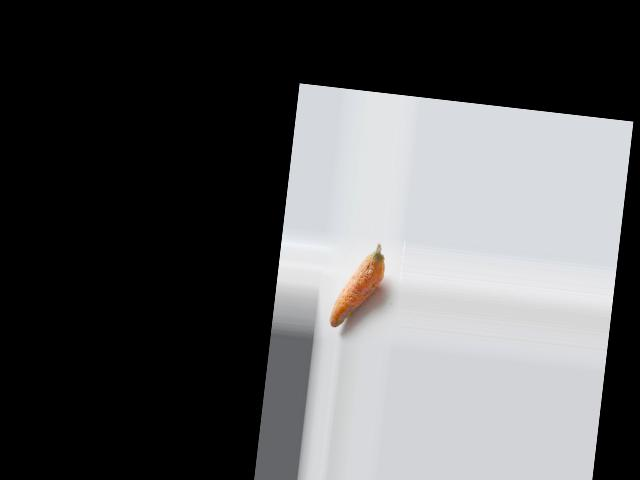carrot: (325, 238, 391, 334)
